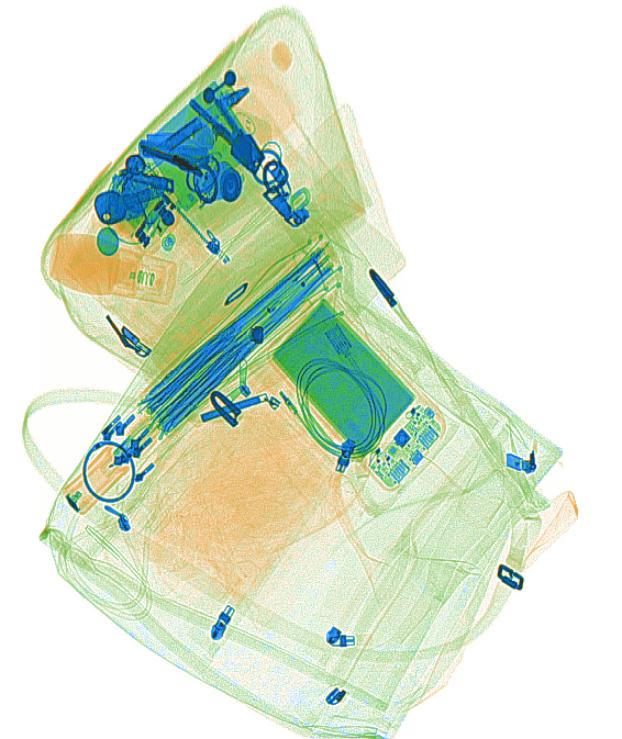plasticBottleWithaNozzle: (47, 232, 180, 306)
